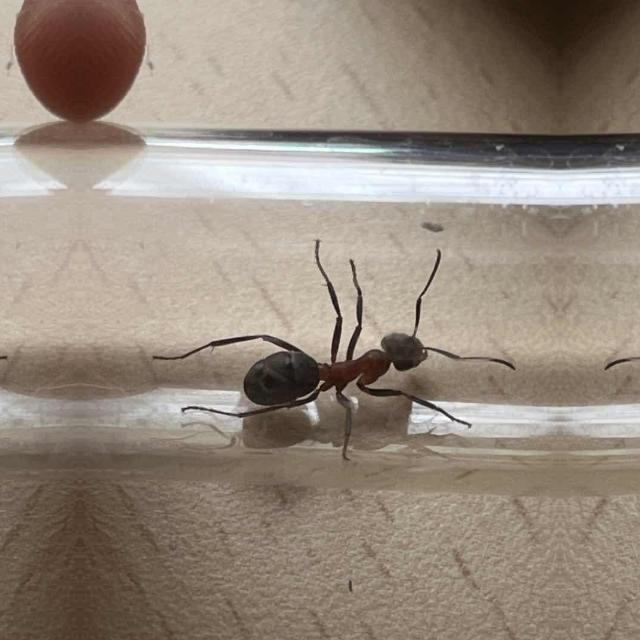Formica: (222, 279, 454, 433)
